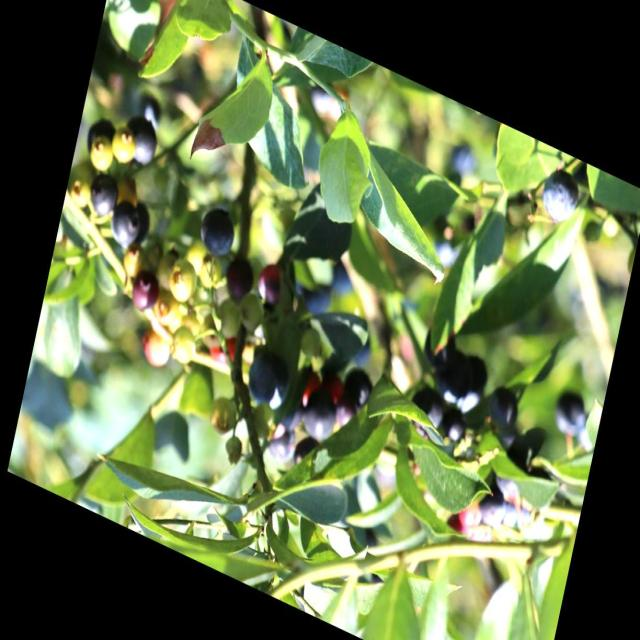blueberry: (242, 342, 292, 416), (114, 107, 163, 175), (536, 161, 584, 230), (107, 191, 152, 259), (547, 377, 590, 442), (194, 201, 238, 261), (406, 389, 448, 447), (482, 377, 523, 436), (450, 354, 487, 419), (299, 387, 339, 446), (82, 168, 122, 227), (218, 247, 256, 309), (251, 254, 290, 308), (127, 263, 162, 320), (263, 417, 298, 472), (82, 107, 117, 161), (340, 363, 374, 417)
blueberry-halfripe: (138, 325, 170, 373), (457, 496, 482, 528)
blueberry-unripe: (164, 257, 200, 309), (213, 293, 246, 343), (150, 284, 182, 332), (168, 325, 201, 369), (86, 133, 118, 177), (106, 125, 135, 168)
